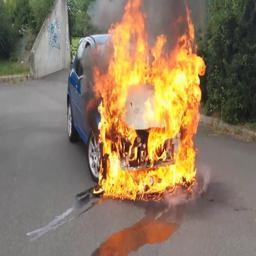fire: (94, 3, 208, 199)
